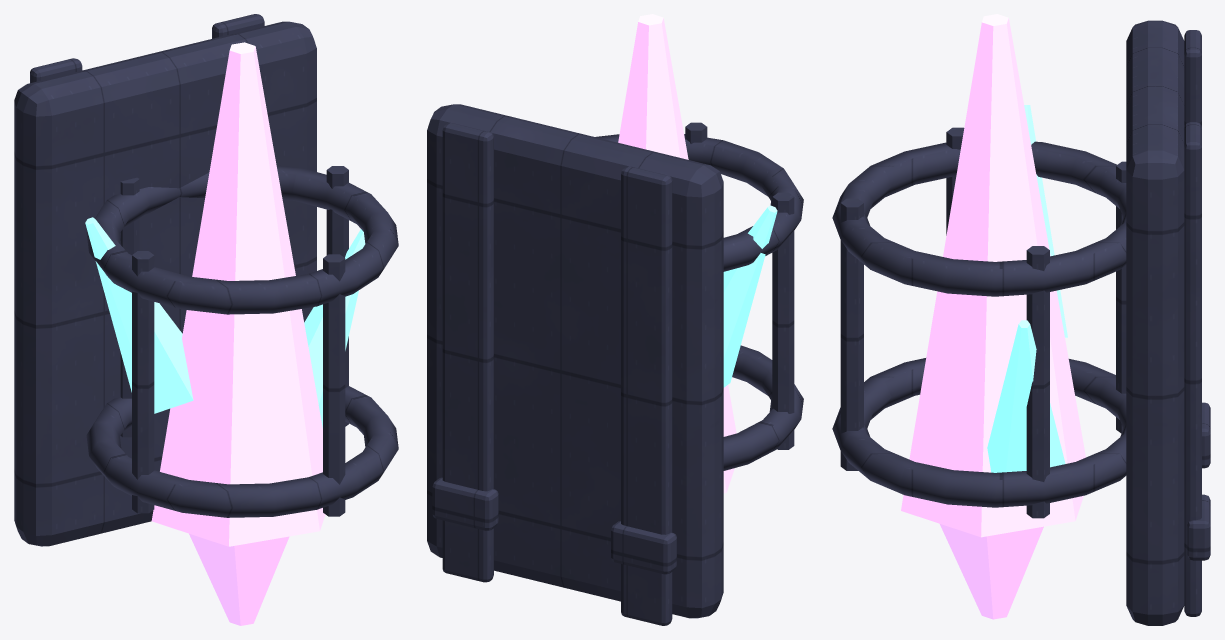
The model's file is backpack_crystal_core.glb.
3 views of the same model, side by side, from view 1: azimuth 30°, elevation 25°; view 2: azimuth 150°, elevation 25°; view 3: azimuth 270°, elevation 25° (orthographic). The views are drawn at different scales.
Visible parts, largest first — view 1: backpack_crystal_core; view 2: backpack_crystal_core; view 3: backpack_crystal_core.
Part boxes in pixels (x1,y1,x2,y2): backpack_crystal_core: [14, 14, 398, 625]; backpack_crystal_core: [427, 14, 803, 625]; backpack_crystal_core: [832, 14, 1210, 625].
Size of the model in its own units: 0.24 by 0.45 by 0.26.
3 materials, 1 textured.
